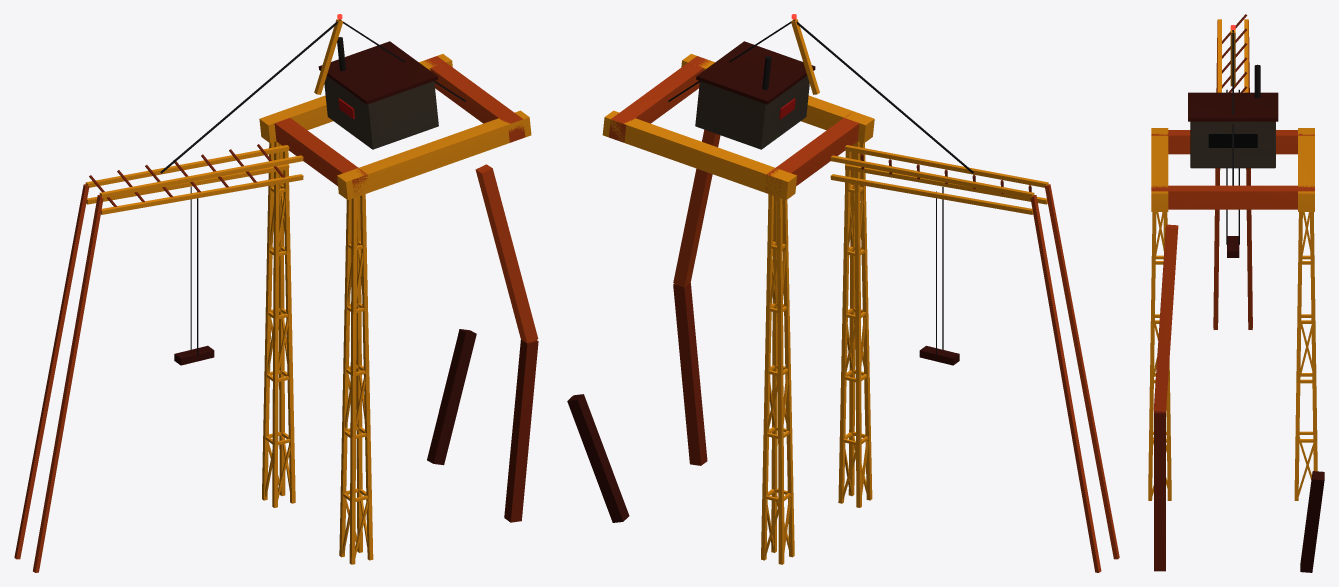
File: tb_port_crane.glb
3 views of the same model, side by side, from view 1: azimuth 30°, elevation 25°; view 2: azimuth 150°, elevation 25°; view 3: azimuth 270°, elevation 25° (orthographic). The views are drawn at different scales.
Parts seen in each view (by area): view 1: crane_body; view 2: crane_body; view 3: crane_body.
Part boxes in pixels (x1=…): crane_body: x1=14, y1=14, x2=538, y2=572; crane_body: x1=567, y1=14, x2=1119, y2=572; crane_body: x1=1148, y1=14, x2=1324, y2=572.
Size of the model in its own units: 44.17 by 43.66 by 14.47.
